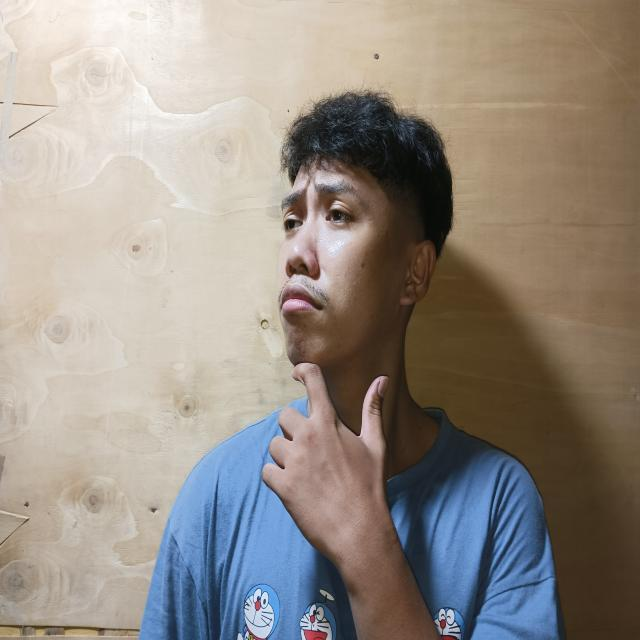Nonhelmet: (275, 87, 456, 372)
